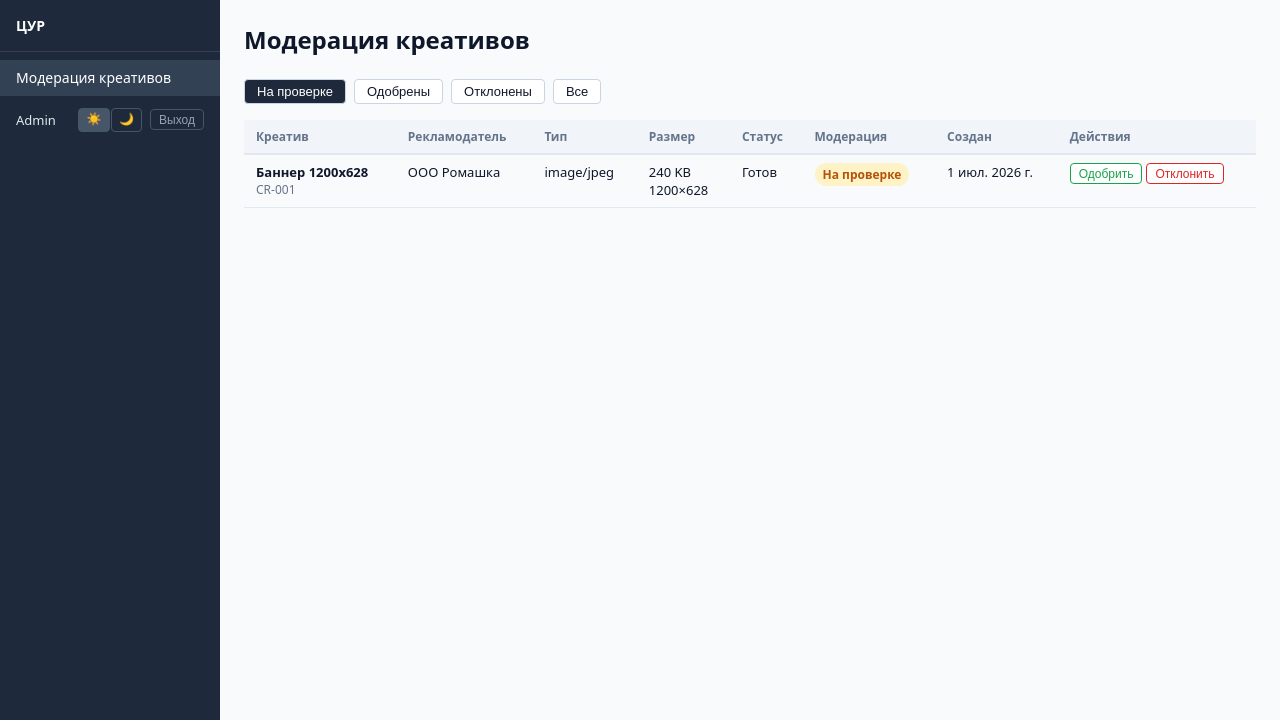
it: CreativeModerationPage — S-036 › opens reject input and shows cancel/confirm buttons
Click the button with test id "moderation-reject-CR-001". click: (1185, 174)
box: top-left (1146, 163), bottom-right (1224, 184)
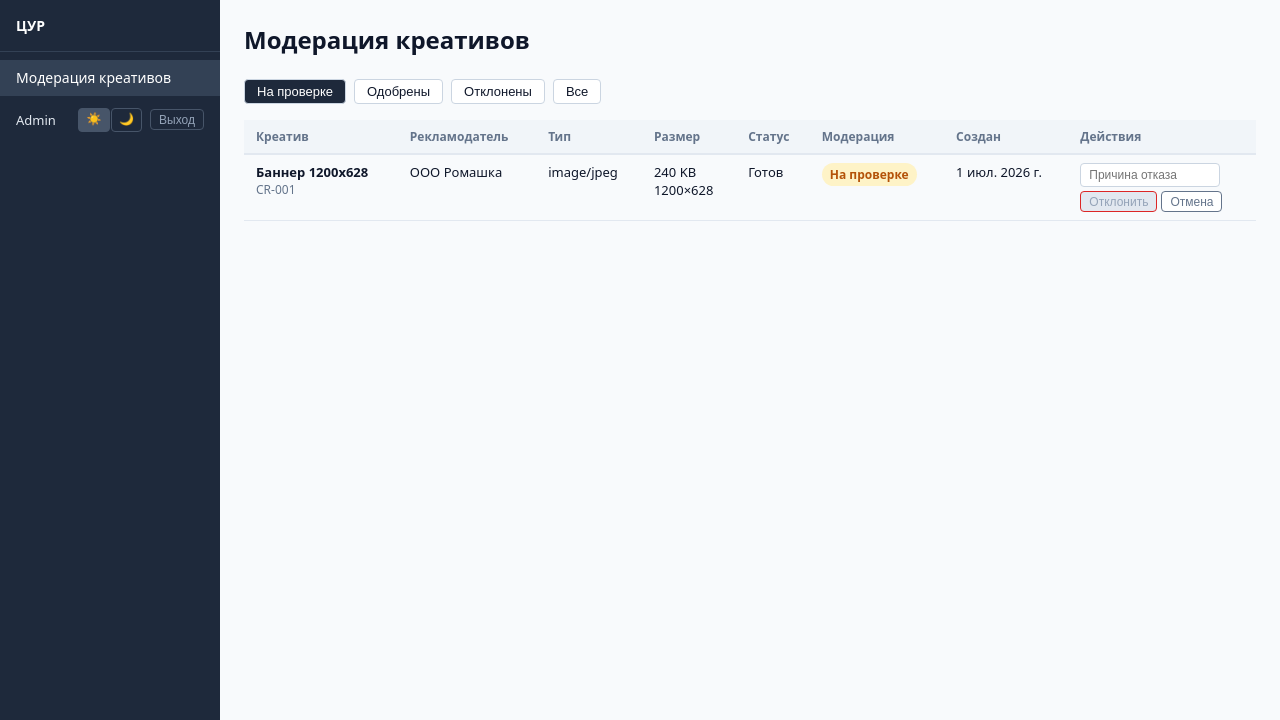
Expected: the button with test id "moderation-reject-confirm-CR-001" is disabled, top-left (1080, 191), bottom-right (1157, 212)
Result: the field with test id "moderation-reject-reason-CR-001" is shown at top-left (1080, 163), bottom-right (1220, 187)
Result: the button with test id "moderation-reject-cancel-CR-001" is shown at top-left (1161, 191), bottom-right (1222, 212)
